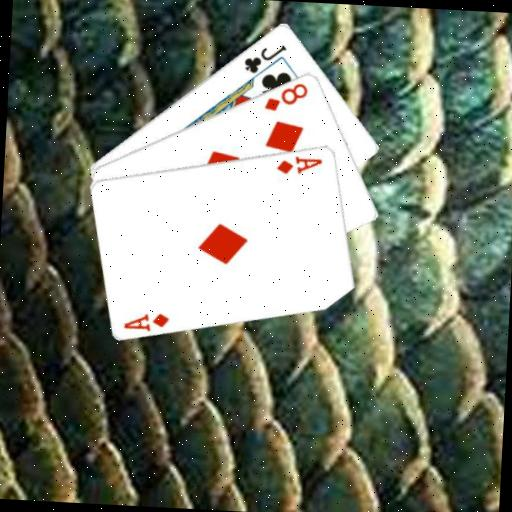8D: (261, 78, 310, 114)
AD: (274, 151, 324, 177), (121, 308, 172, 333)
JC: (240, 39, 289, 77)
